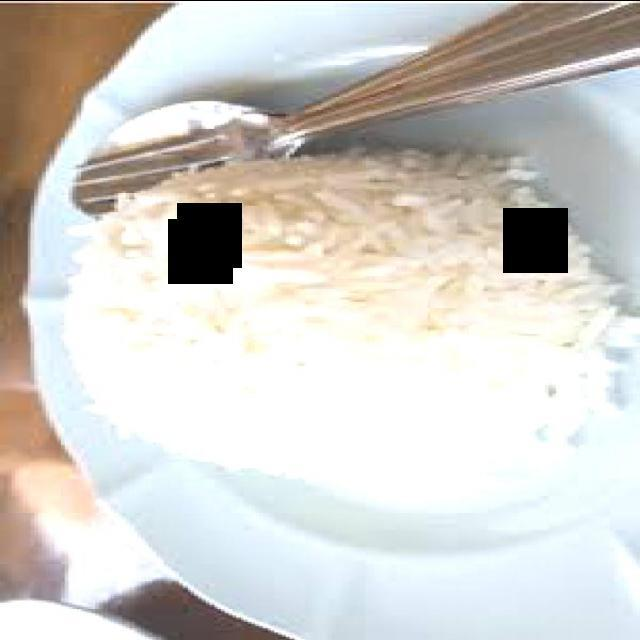Chicken -Chicken Inasal-: (76, 155, 622, 349)
